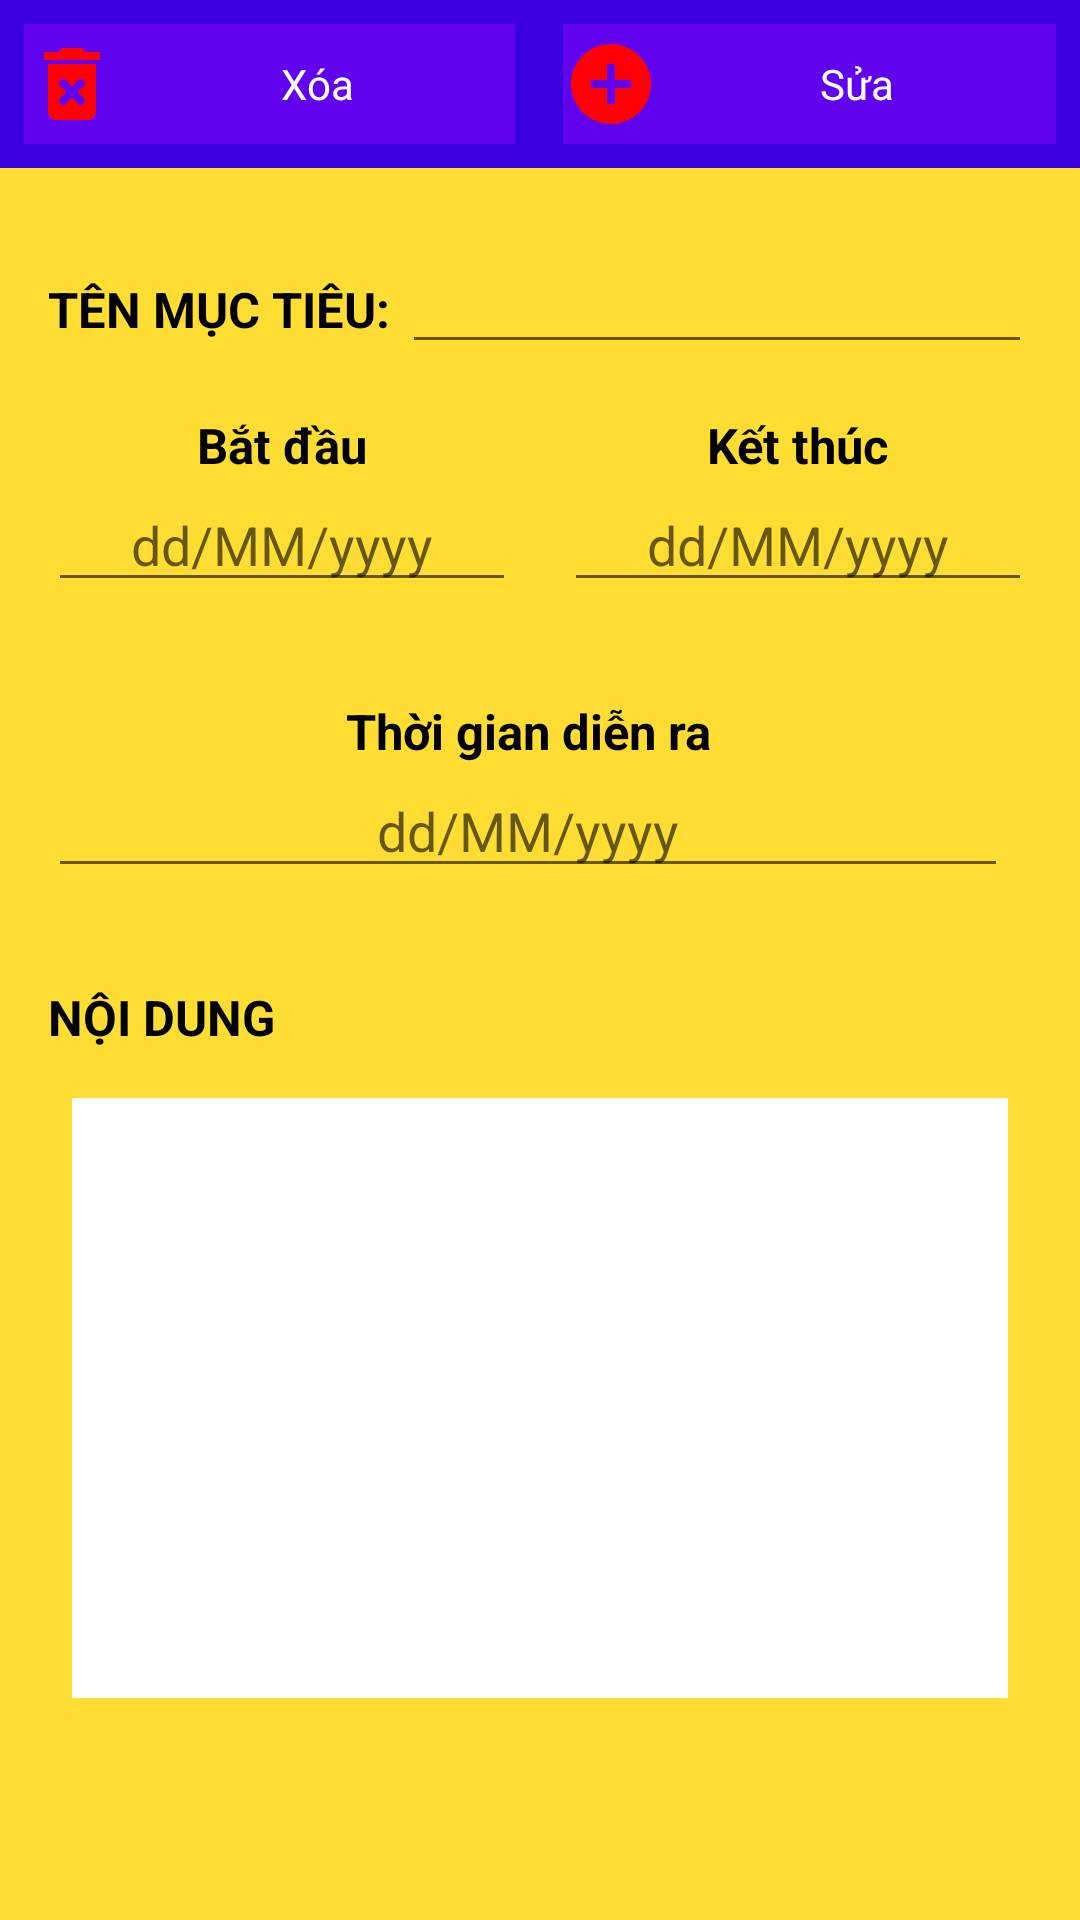

Icon bounding boxes for this 1080×1920 phone screenshot, format (x1, y1, x2, y2):
add circle: (571, 44, 651, 124)
delete forever: (44, 48, 100, 120)
